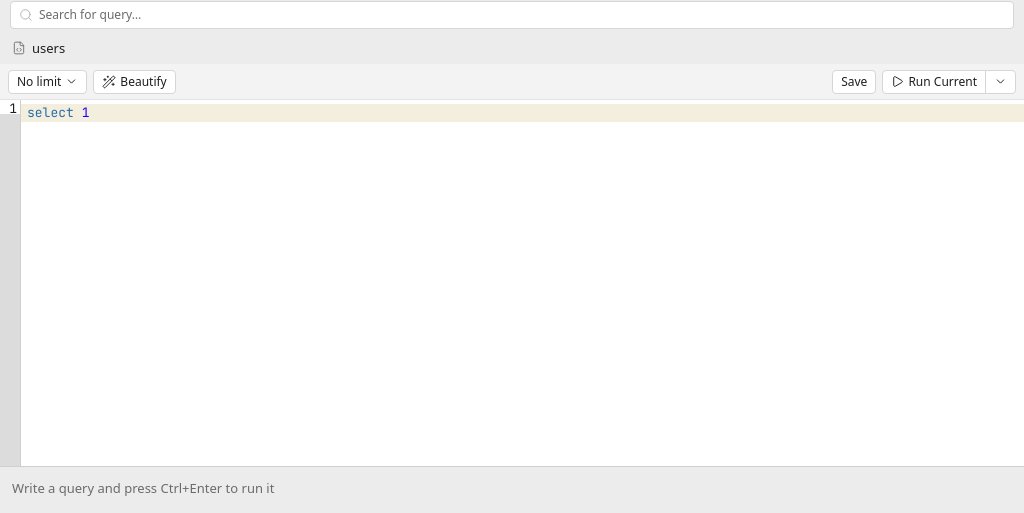
Test case: the menu gives the focus back to its query on Escape
This screenshot has width=1024, height=513.
Right-click the button "users" at point(49, 48), box [6,36,1018,60]
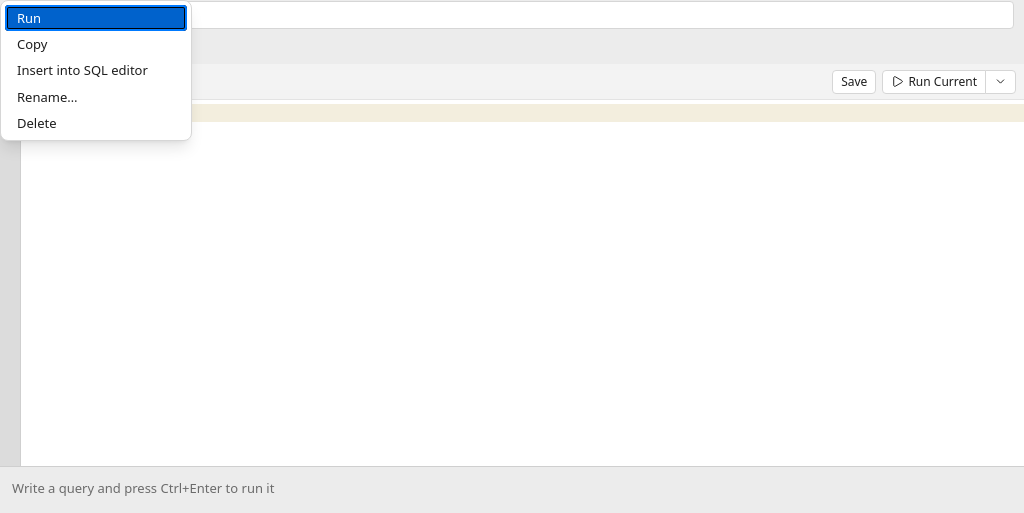
Press Escape
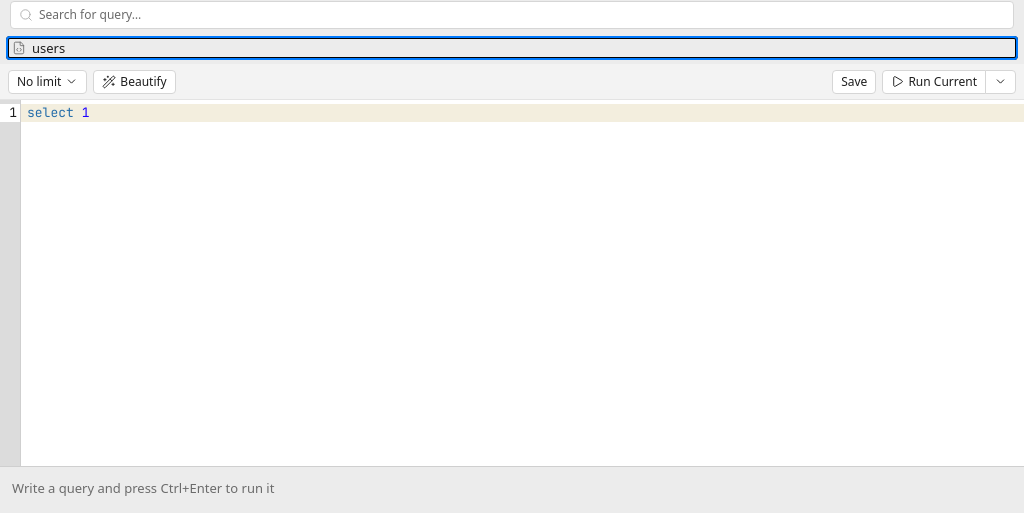
expect the menu is gone: met
